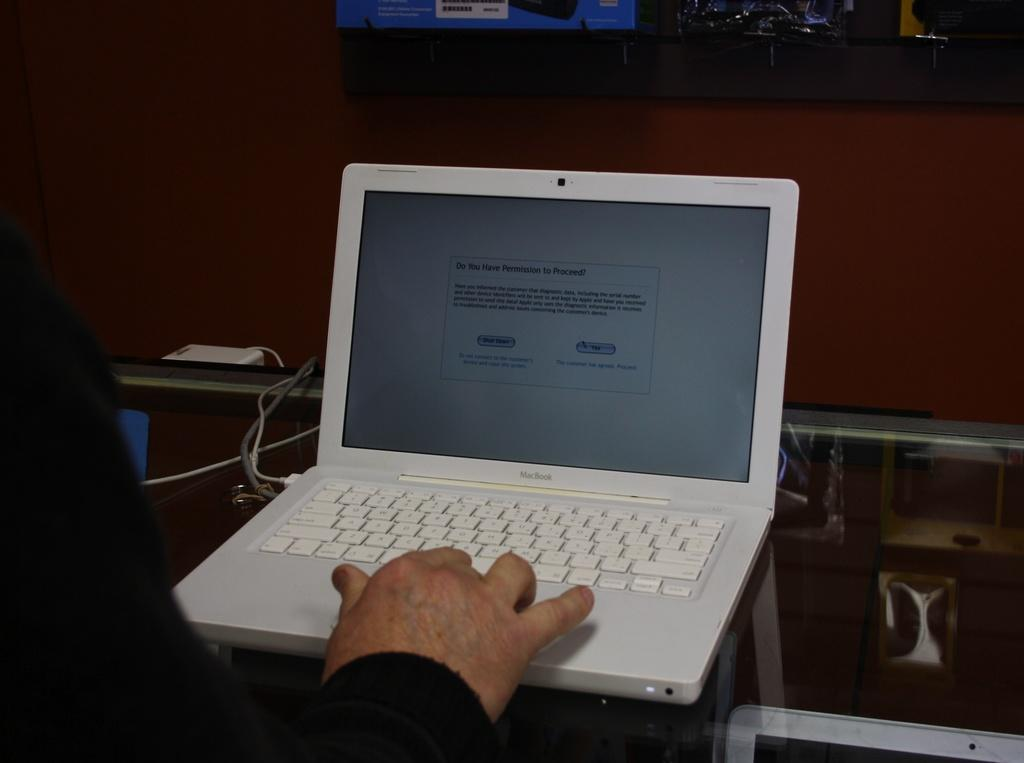Laptop: (199, 168, 810, 719)
